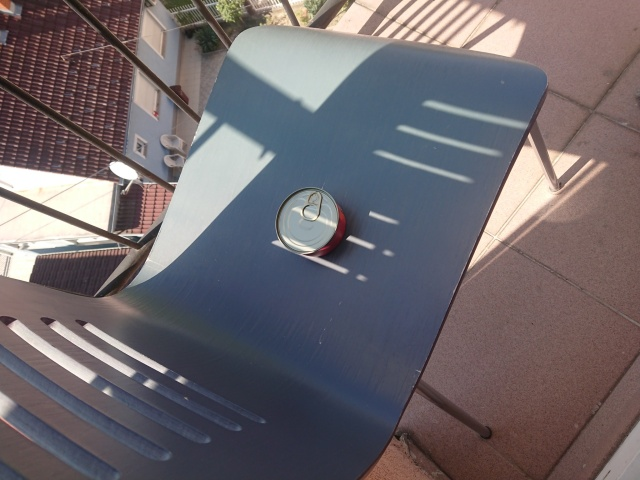Gavrilovic Pork Liver Pate 100g: (272, 183, 347, 258)
